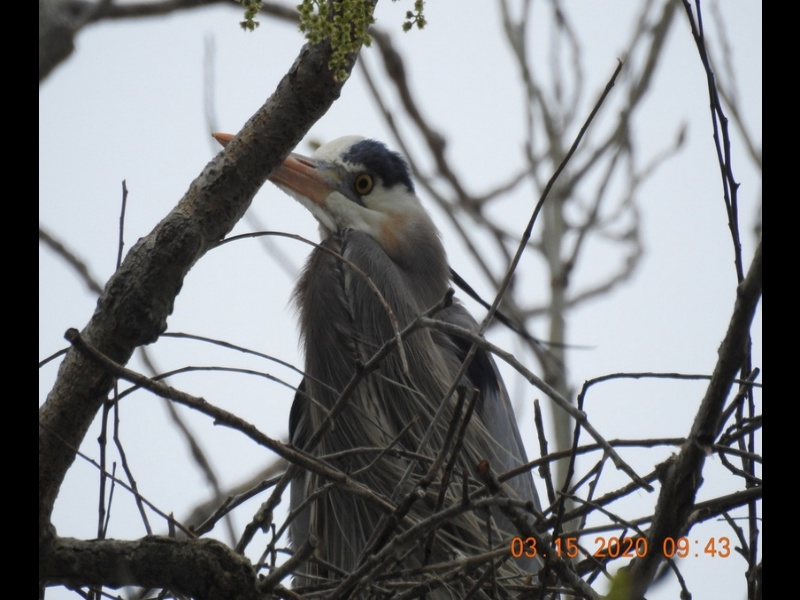heron: (206, 115, 552, 584)
